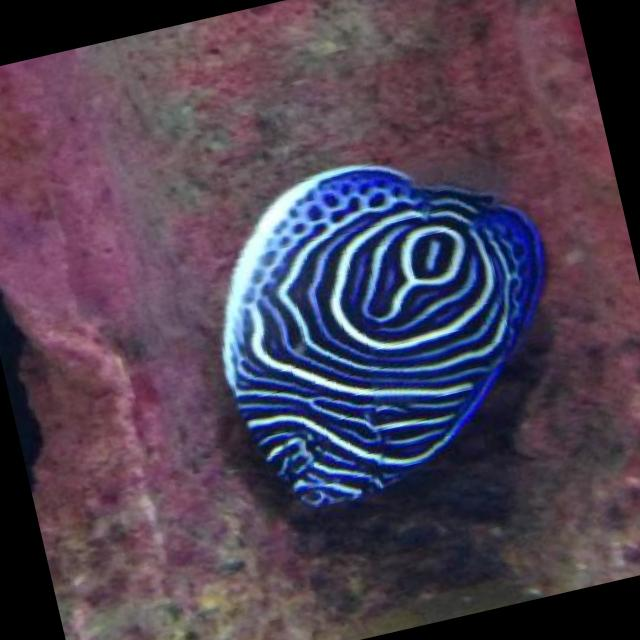AngelFish: (185, 127, 592, 530)
